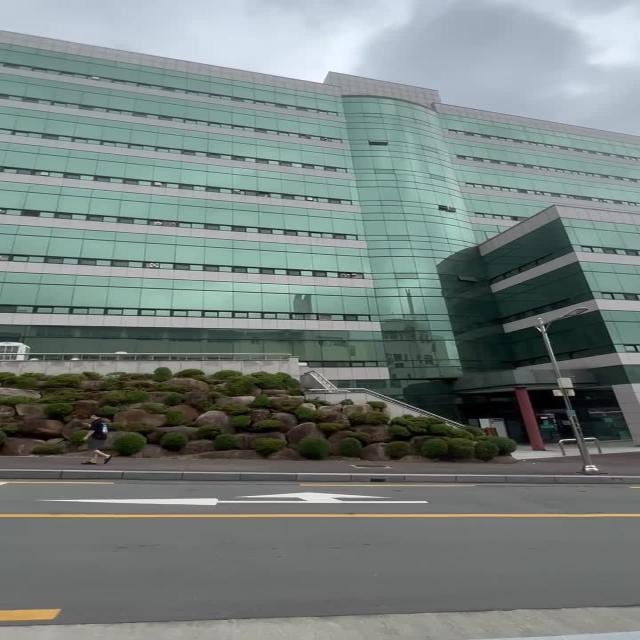building: (7, 29, 640, 345)
